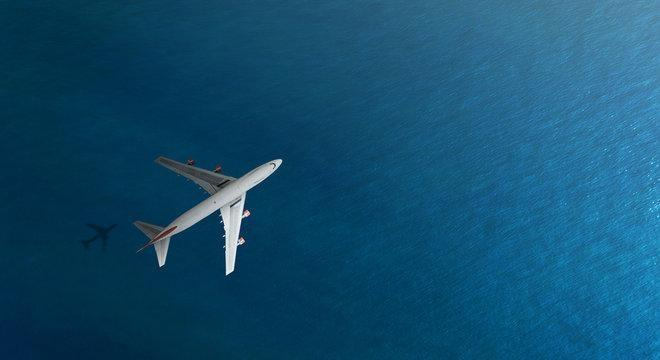Airplane: (127, 148, 287, 281)
